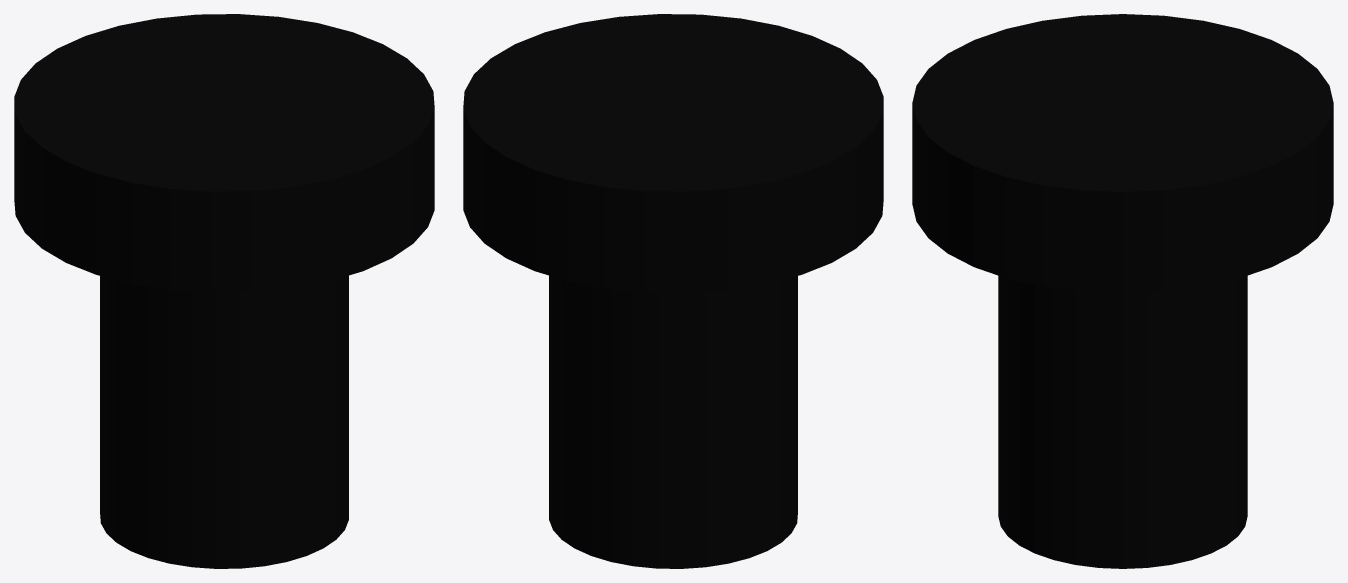
The picture shows the model from 3 angles, left to right: view 1: azimuth 30°, elevation 25°; view 2: azimuth 150°, elevation 25°; view 3: azimuth 270°, elevation 25°; orthographic projection.
Parts seen in each view (by area): view 1: Circle.020; view 2: Circle.020; view 3: Circle.020.
Boxes of the visible parts, left/top/right/bottom form: Circle.020: left=14, top=14, right=434, bottom=568; Circle.020: left=463, top=14, right=883, bottom=568; Circle.020: left=912, top=14, right=1333, bottom=568.
Size of the model in its own units: 37.58 by 40.68 by 37.58.
